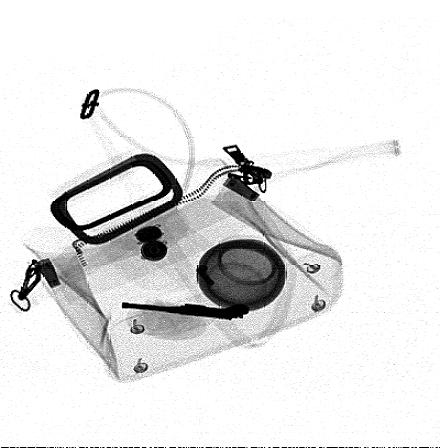Gun: (121, 300, 254, 321)
